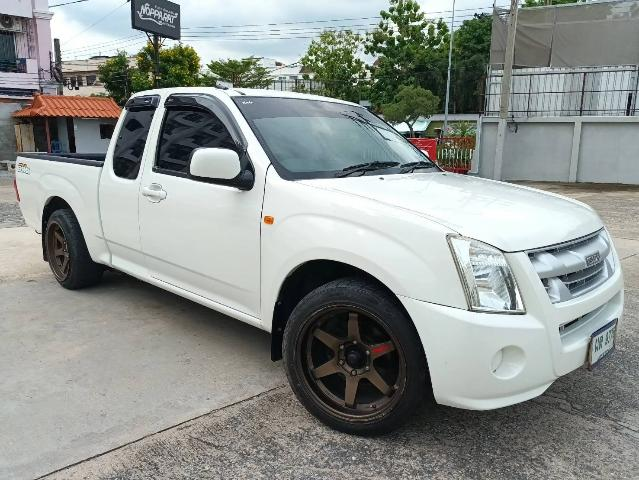pickup-truck: (7, 71, 632, 446)
